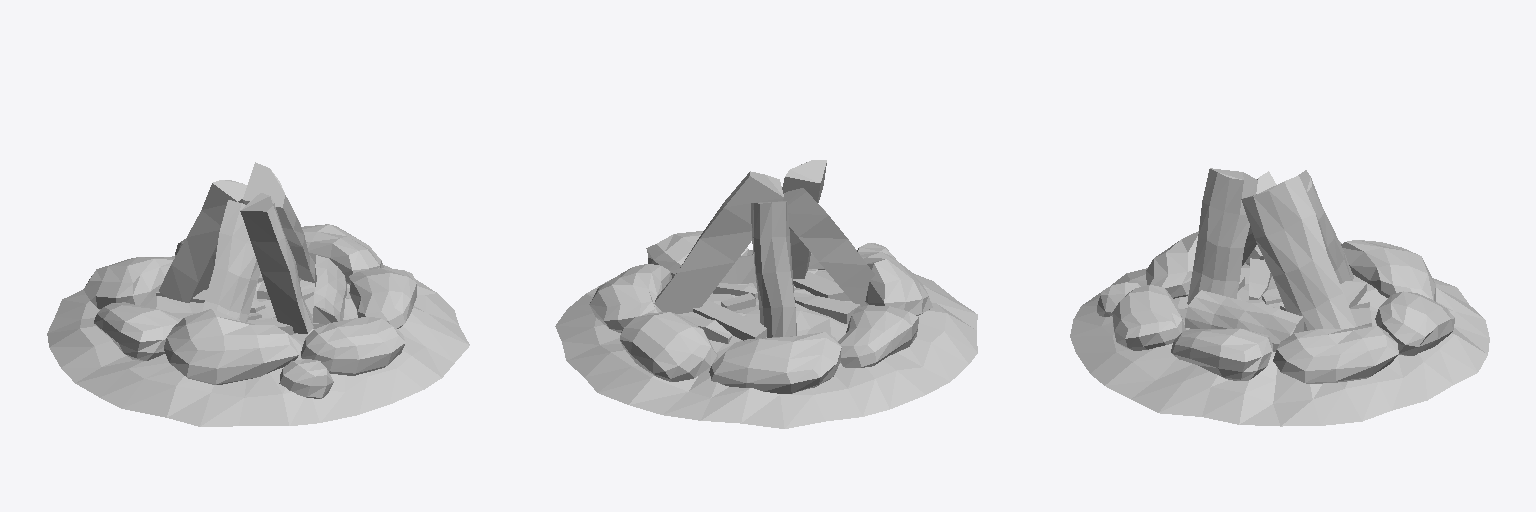
Rendered from Fogata.obj.
3 views of the same model, side by side, from view 1: azimuth 30°, elevation 25°; view 2: azimuth 150°, elevation 25°; view 3: azimuth 270°, elevation 25° (orthographic).
Visible parts, largest first — view 1: Cylinder001; view 2: Cylinder001; view 3: Cylinder001.
Part boxes in pixels (x1,y1,x2,y2): Cylinder001: (47,162,469,426); Cylinder001: (555,160,977,428); Cylinder001: (1070,168,1489,426).
Bounding box in the file's own units: 9.45 × 4.21 × 9.45.